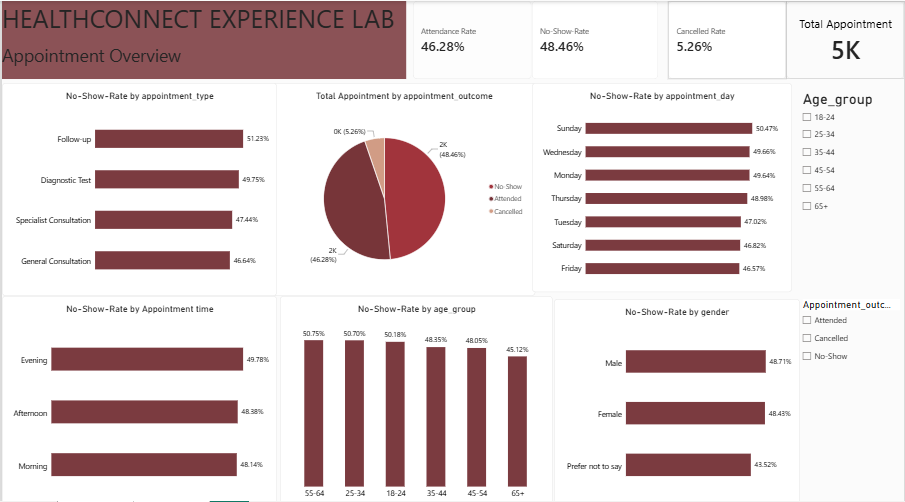

This screenshot's page, from the dashboard's own definition file:
{"tool":"powerbi","page":{"name":"Page 1","canvas":[1920,1080],"ordinal":0},"visuals":[{"type":"cardVisual","fields":{"Data":["HealthConnect_Appointment_Data.Attendance Rate"]},"box":[874,0,252,166],"z":4},{"type":"pieChart","fields":{"Category":["HealthConnect_Appointment_Data.appointment_outcome"],"Y":["HealthConnect_Appointment_Data.Total Appointment"]},"box":[577.5,175,557.5,452.5],"z":5},{"type":"cardVisual","fields":{"Data":["HealthConnect_Appointment_Data.No-Show-Rate"]},"box":[1128,0,268,166],"z":6},{"type":"cardVisual","fields":{"Data":["HealthConnect_Appointment_Data.Cancelled Rate"]},"box":[1416,0,252,166],"z":8},{"type":"cardVisual","fields":{"Data":["HealthConnect_Appointment_Data.Total Appointment"]},"box":[1668,0,252.7,166.3],"z":9},{"type":"slicer","fields":{"Values":["HealthConnect_Appointment_Data.age_group"]},"box":[1695,190,226,446],"z":12},{"type":"slicer","fields":{"Values":["HealthConnect_Appointment_Data.appointment_outcome"]},"box":[1695,635,222.5,445],"z":13},{"type":"textbox","box":[0,0,860,166],"z":15},{"type":"columnChart","fields":{"Category":["HealthConnect_Appointment_Data.age_group"],"Y":["HealthConnect_Appointment_Data.No-Show-Rate"]},"box":[592.5,627.5,580,452.5],"z":16},{"type":"barChart","fields":{"Category":["HealthConnect_Appointment_Data.appointment_type"],"Y":["HealthConnect_Appointment_Data.No-Show-Rate"]},"box":[0,175,585,452.5],"z":17},{"type":"barChart","title":"No-Show-Rate by Appointment time   ","fields":{"Category":["HealthConnect_Appointment_Data.appointment_time"],"Y":["HealthConnect_Appointment_Data.No-Show-Rate"]},"box":[0,627.5,585,452.5],"z":18},{"type":"barChart","fields":{"Category":["HealthConnect_Appointment_Data.appointment_day"],"Y":["HealthConnect_Appointment_Data.No-Show-Rate"]},"box":[1127.5,175,552.5,445],"z":19},{"type":"barChart","fields":{"Category":["HealthConnect_Appointment_Data.gender"],"Y":["HealthConnect_Appointment_Data.No-Show-Rate"]},"box":[1175,635,522.5,445],"z":20}]}

Visuals, with their boxes in screenshot pixels (x1, y1, x2, y2), scaled from the page's 1920x1080 canvas onto the 905x502 screenshot:
cardVisual - HealthConnect_Appointment_Data.Attendance Rate: (412, 0, 531, 77)
pieChart - HealthConnect_Appointment_Data.appointment_outcome x HealthConnect_Appointment_Data.Total Appointment: (272, 81, 535, 292)
cardVisual - HealthConnect_Appointment_Data.No-Show-Rate: (532, 0, 658, 77)
cardVisual - HealthConnect_Appointment_Data.Cancelled Rate: (667, 0, 786, 77)
cardVisual - HealthConnect_Appointment_Data.Total Appointment: (786, 0, 904, 77)
slicer - HealthConnect_Appointment_Data.age_group: (799, 88, 904, 296)
slicer - HealthConnect_Appointment_Data.appointment_outcome: (799, 295, 904, 501)
textbox: (0, 0, 405, 77)
columnChart - HealthConnect_Appointment_Data.age_group x HealthConnect_Appointment_Data.No-Show-Rate: (279, 292, 553, 501)
barChart - HealthConnect_Appointment_Data.appointment_type x HealthConnect_Appointment_Data.No-Show-Rate: (0, 81, 276, 292)
"No-Show-Rate by Appointment time   " barChart: (0, 292, 276, 501)
barChart - HealthConnect_Appointment_Data.appointment_day x HealthConnect_Appointment_Data.No-Show-Rate: (531, 81, 792, 288)
barChart - HealthConnect_Appointment_Data.gender x HealthConnect_Appointment_Data.No-Show-Rate: (554, 295, 800, 501)
